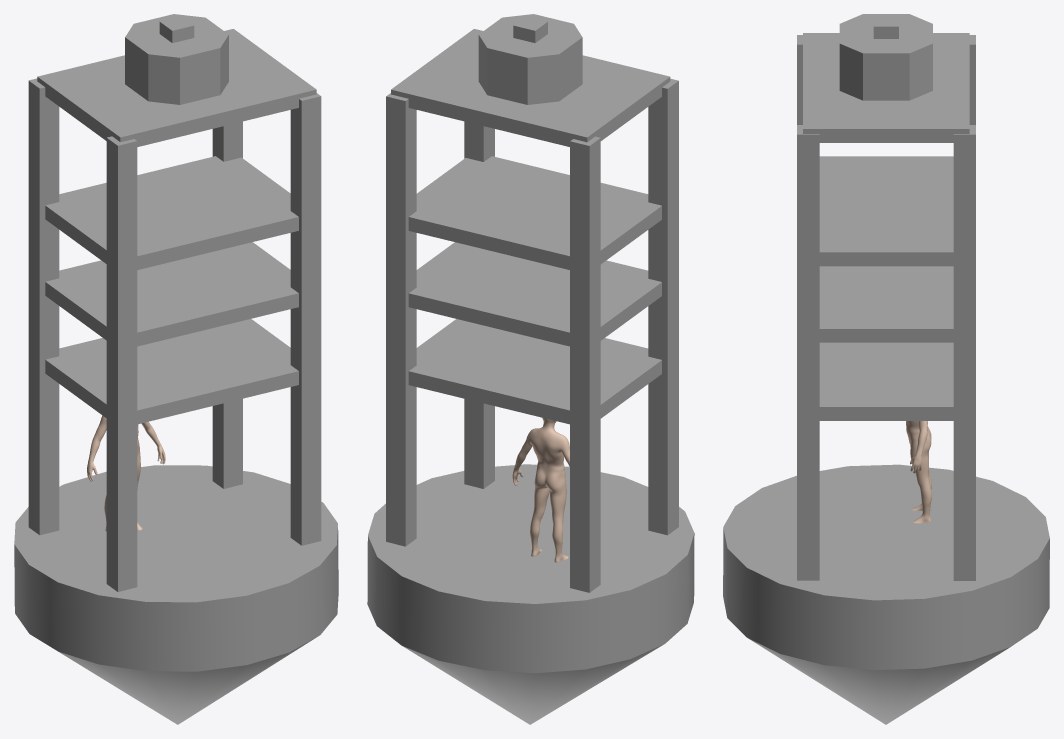
File: Buoy.fbx
The picture shows the model from 3 angles, left to right: view 1: azimuth 30°, elevation 25°; view 2: azimuth 150°, elevation 25°; view 3: azimuth 270°, elevation 25°; orthographic projection.
Visible parts, largest first — view 1: humanBody2; view 2: humanBody2; view 3: humanBody2.
Boxes of the visible parts, bbox=[...] form: humanBody2: bbox=[14, 14, 338, 724]; humanBody2: bbox=[367, 14, 694, 724]; humanBody2: bbox=[723, 14, 1049, 724].
Size of the model in its own units: 351 by 833 by 351.
